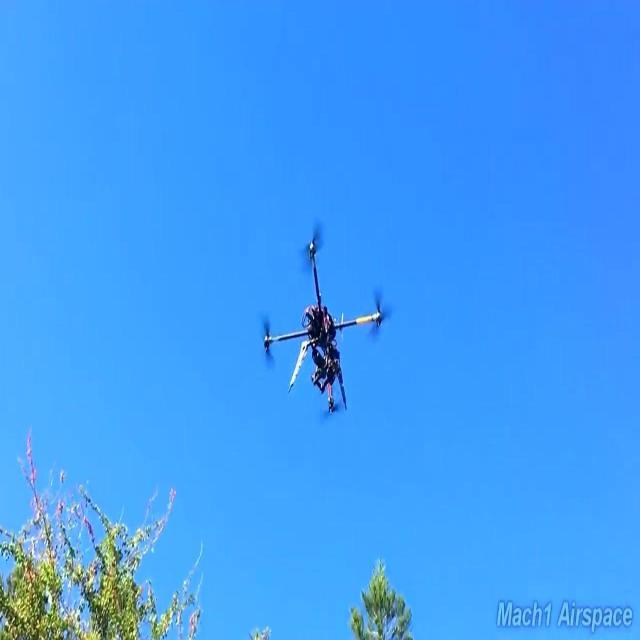drone: (263, 235, 382, 414)
